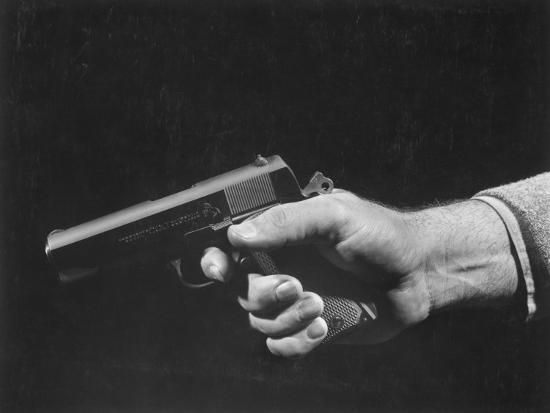pistol: (40, 155, 376, 361)
